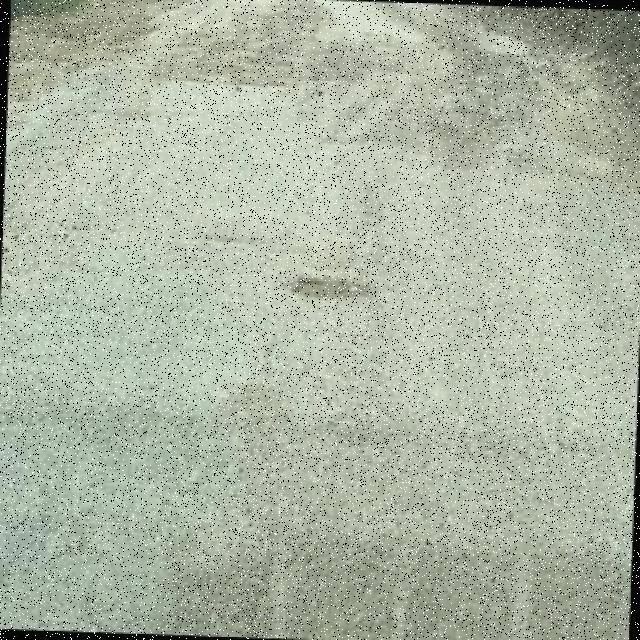Pothole: (285, 275, 374, 303)
